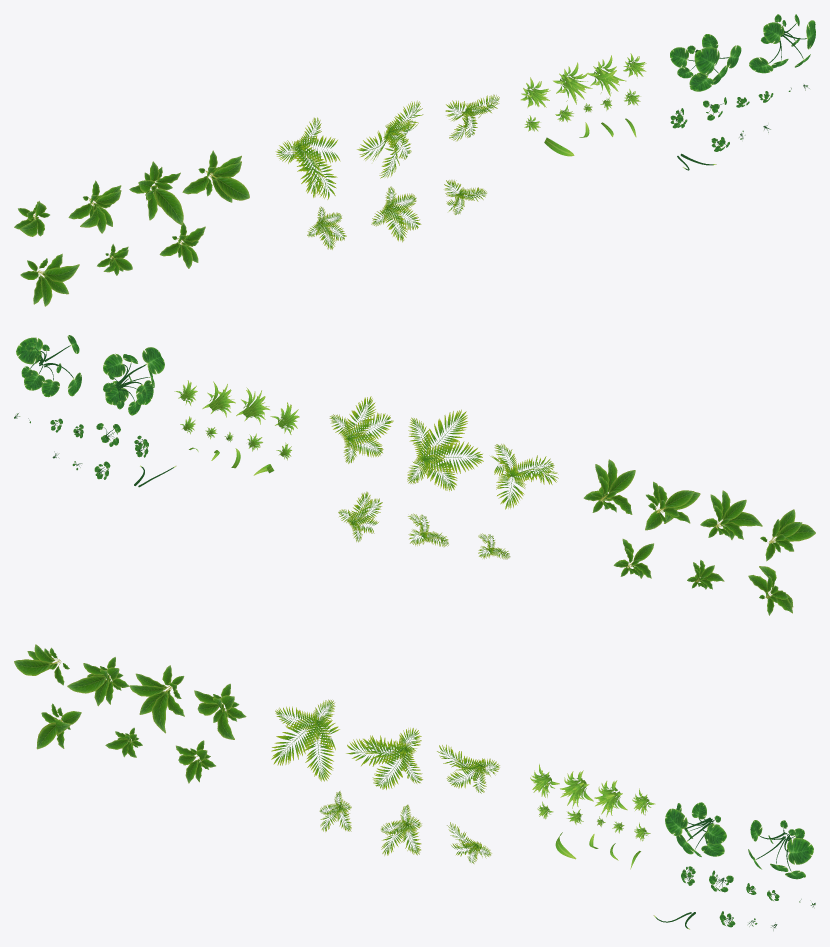
The model's file is Vườn cây xanh.glb.
3 renders of one model, top to bottom at view 1: azimuth 30°, elevation 25°; view 2: azimuth 150°, elevation 25°; view 3: azimuth 330°, elevation 25°, orthographic. The views are drawn at different scales.
Visible parts, largest first — view 1: Plant.040_0; view 2: Plant.040_0; view 3: Plant.040_0.
Part boxes in pixels (left/top/right/bottom): Plant.040_0: left=14, top=14, right=815, bottom=306; Plant.040_0: left=14, top=335, right=815, bottom=615; Plant.040_0: left=14, top=644, right=815, bottom=930.
Size of the model in its own units: 14.09 by 2.25 by 0.9882.
1 material, 1 textured.
